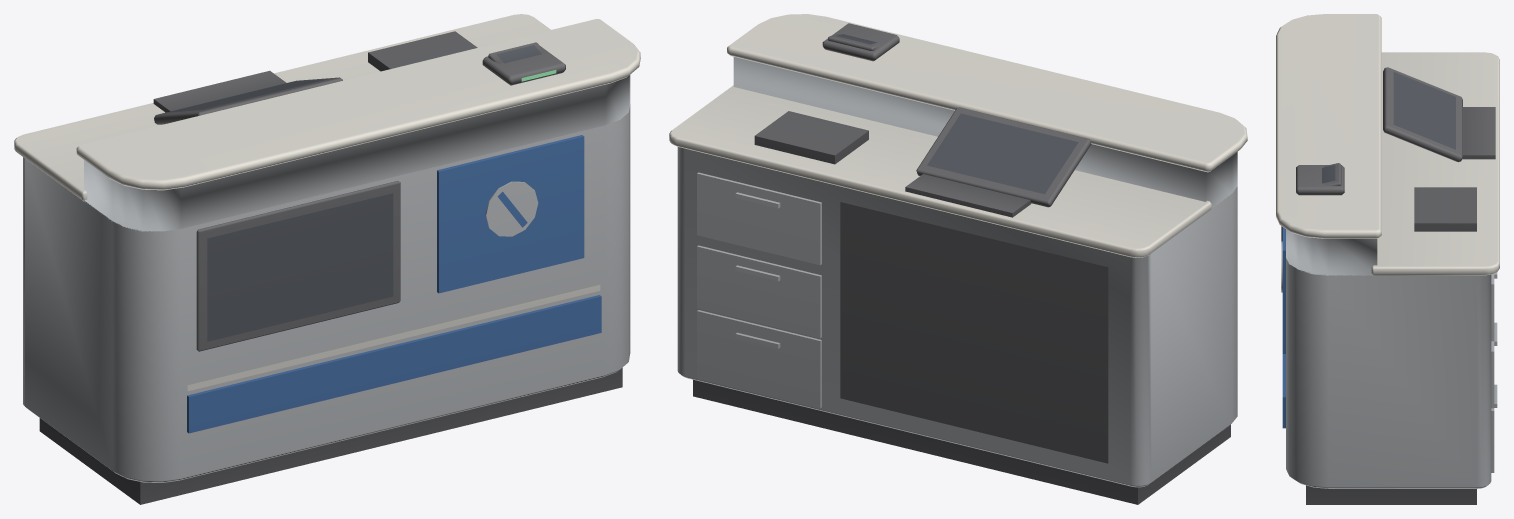
Rendered from gate_podium.glb.
3 views of the same model, side by side, from view 1: azimuth 30°, elevation 25°; view 2: azimuth 150°, elevation 25°; view 3: azimuth 270°, elevation 25° (orthographic). The views are drawn at different scales.
Parts seen in each view (by area): view 1: terminal_gate_podium; view 2: terminal_gate_podium; view 3: terminal_gate_podium.
Part boxes in pixels (box(x1,y1,x2,y2)): terminal_gate_podium: box(14, 14, 640, 504); terminal_gate_podium: box(669, 14, 1247, 504); terminal_gate_podium: box(1276, 14, 1499, 504).
Bounding box in the file's own units: 1.81 × 1.14 × 0.785.
